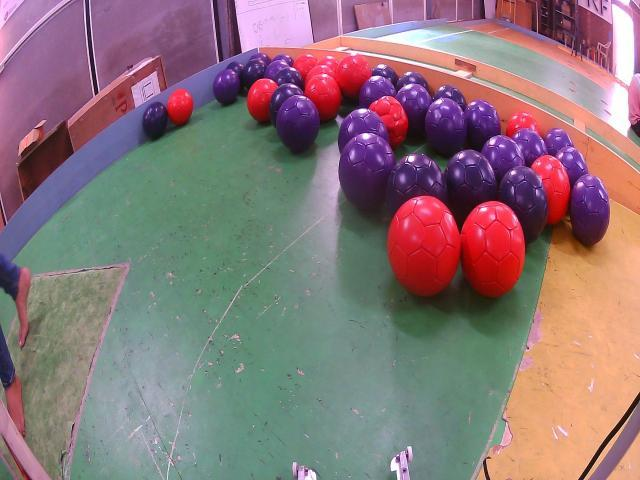jambhalya: (339, 133, 396, 210), (570, 173, 610, 245), (425, 98, 468, 157), (276, 95, 320, 152), (338, 108, 389, 152), (481, 135, 525, 184), (464, 98, 501, 152), (395, 83, 432, 135), (512, 128, 548, 167), (556, 147, 588, 188), (359, 75, 396, 108), (212, 68, 240, 105), (544, 128, 574, 156), (264, 60, 289, 80), (250, 52, 271, 67), (272, 53, 294, 67)
kaalyya: (445, 150, 498, 227), (386, 153, 449, 215), (498, 167, 549, 243), (269, 83, 302, 127), (142, 102, 168, 138), (432, 85, 468, 110), (242, 58, 266, 90), (274, 67, 305, 90), (396, 72, 429, 92), (372, 63, 399, 87), (226, 60, 244, 89)
